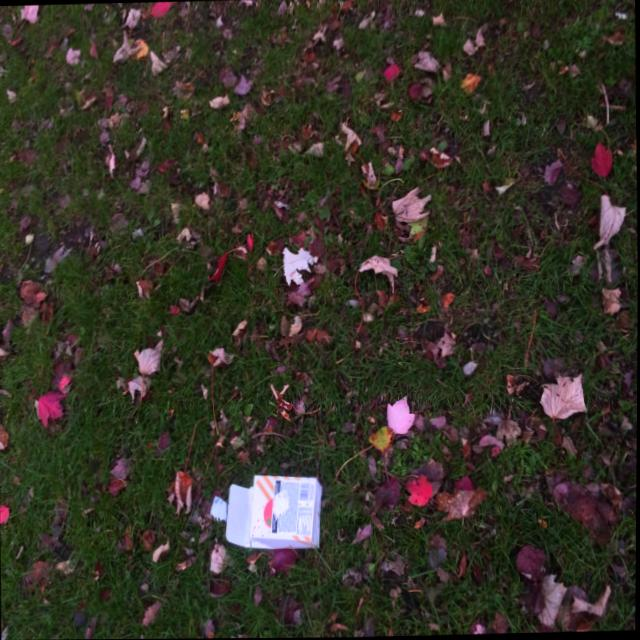Paper: (209, 464, 330, 557)
